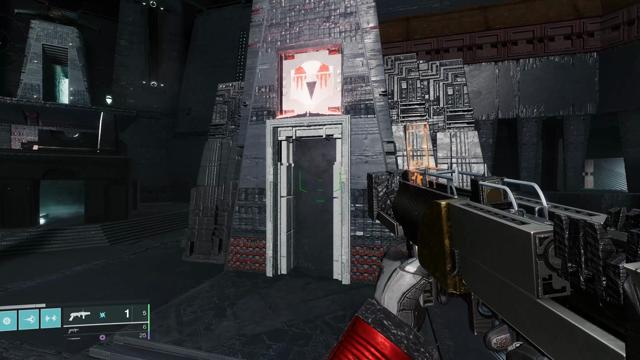enter: (24, 143, 38, 150)
give: (291, 60, 333, 104)
